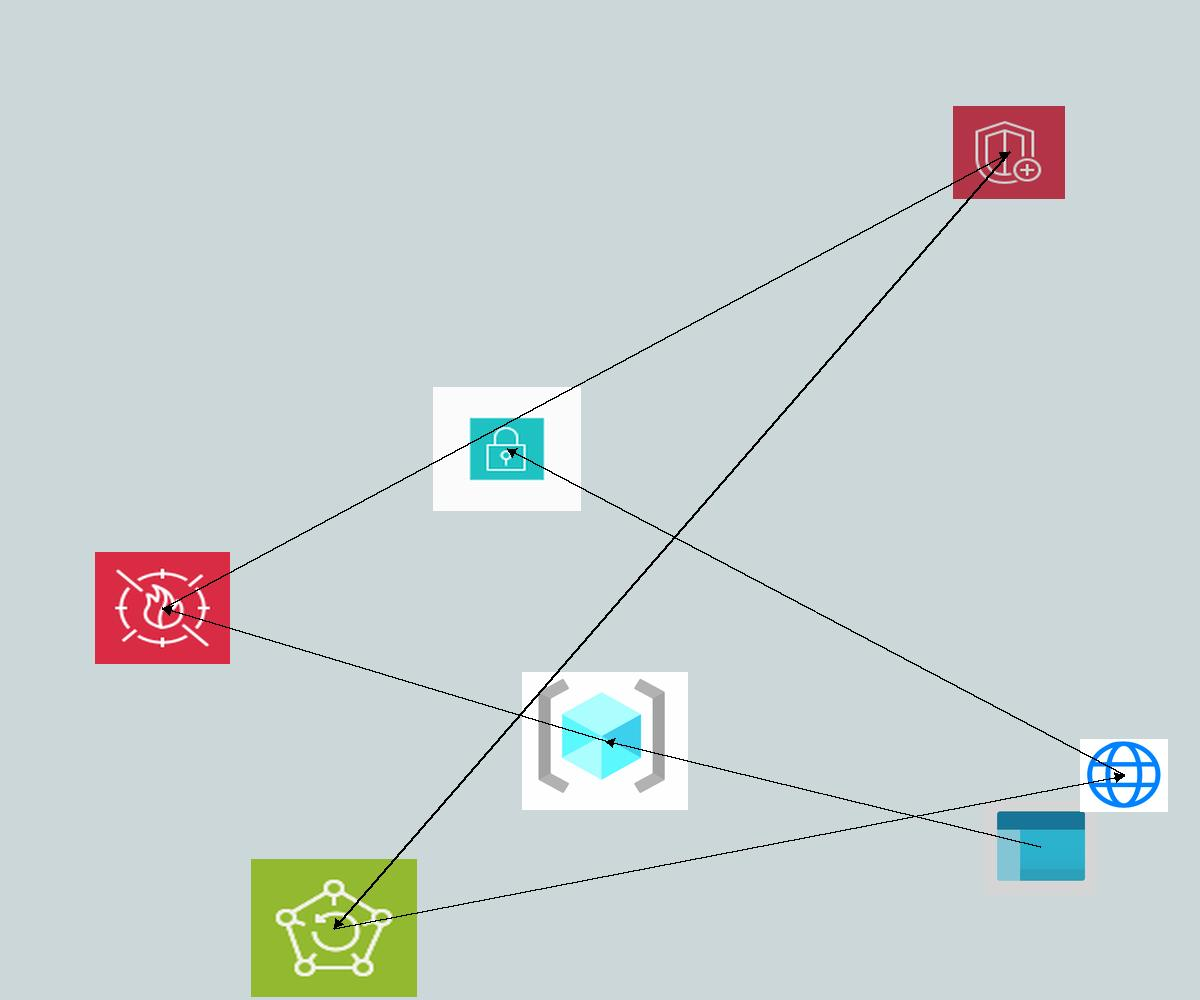AWS-Backup: (251, 859, 417, 997)
AWS-Private-subnet: (433, 387, 581, 511)
AWS-Shield: (953, 106, 1065, 199)
AWS-WAF: (95, 552, 230, 664)
Azure_http: (1080, 739, 1168, 812)
Azure_management-portal: (983, 800, 1097, 895)
Azure_resource_group: (522, 672, 688, 810)
